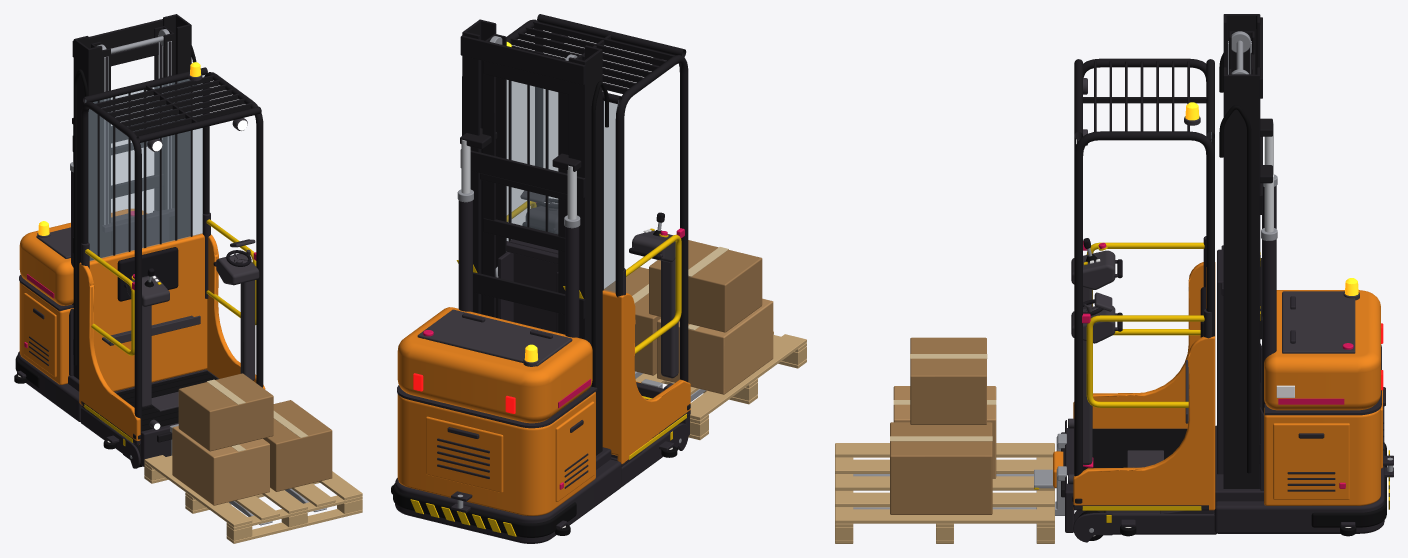
The model's file is picker_high.glb.
3 views of the same model, side by side, from view 1: azimuth 30°, elevation 25°; view 2: azimuth 150°, elevation 25°; view 3: azimuth 270°, elevation 25° (orthographic). The views are drawn at different scales.
Parts seen in each view (by area): view 1: car_plate, slab, carton, pal_top, m_inn, chain_f_s, chain_f_s.001, st_hub; view 2: slab, car_plate, carton, m_inn, pal_top; view 3: slab, car_plate, carton, pal_top, m_inn.
Part boxes in pixels (<box>): car_plate: <box>79,62,326,525</box>; slab: <box>14,14,196,468</box>; carton: <box>172,373,332,505</box>; pal_top: <box>144,453,362,543</box>; m_inn: <box>72,26,174,257</box>; chain_f_s: <box>104,56,108,224</box>; chain_f_s.001: <box>167,41,171,209</box>; st_hub: <box>226,239,255,266</box>; slab: <box>391,19,688,543</box>; car_plate: <box>495,14,706,464</box>; carton: <box>605,240,773,394</box>; m_inn: <box>460,34,582,334</box>; pal_top: <box>635,331,806,440</box>; slab: <box>1073,14,1393,542</box>; car_plate: <box>853,58,1223,532</box>; carton: <box>890,337,996,514</box>; pal_top: <box>835,443,1054,543</box>; m_inn: <box>1229,31,1273,232</box>.
Size of the model in its own units: 1.15 by 2.78 by 3.05.
